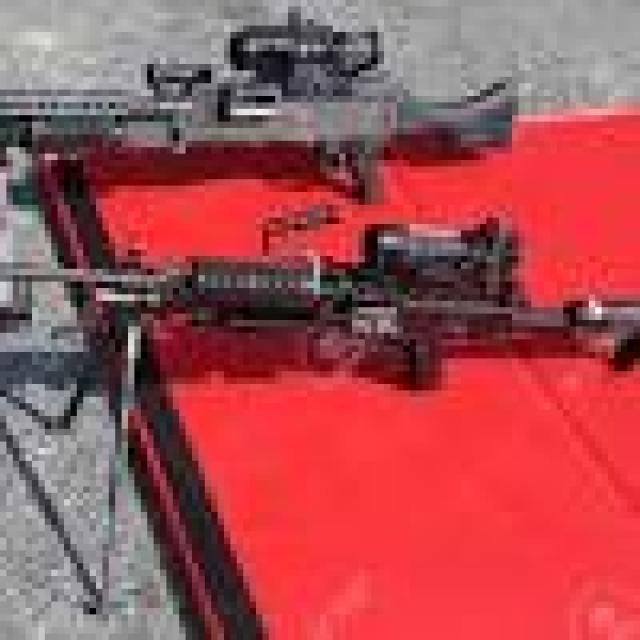Gun: (0, 225, 640, 429), (0, 28, 540, 208)
